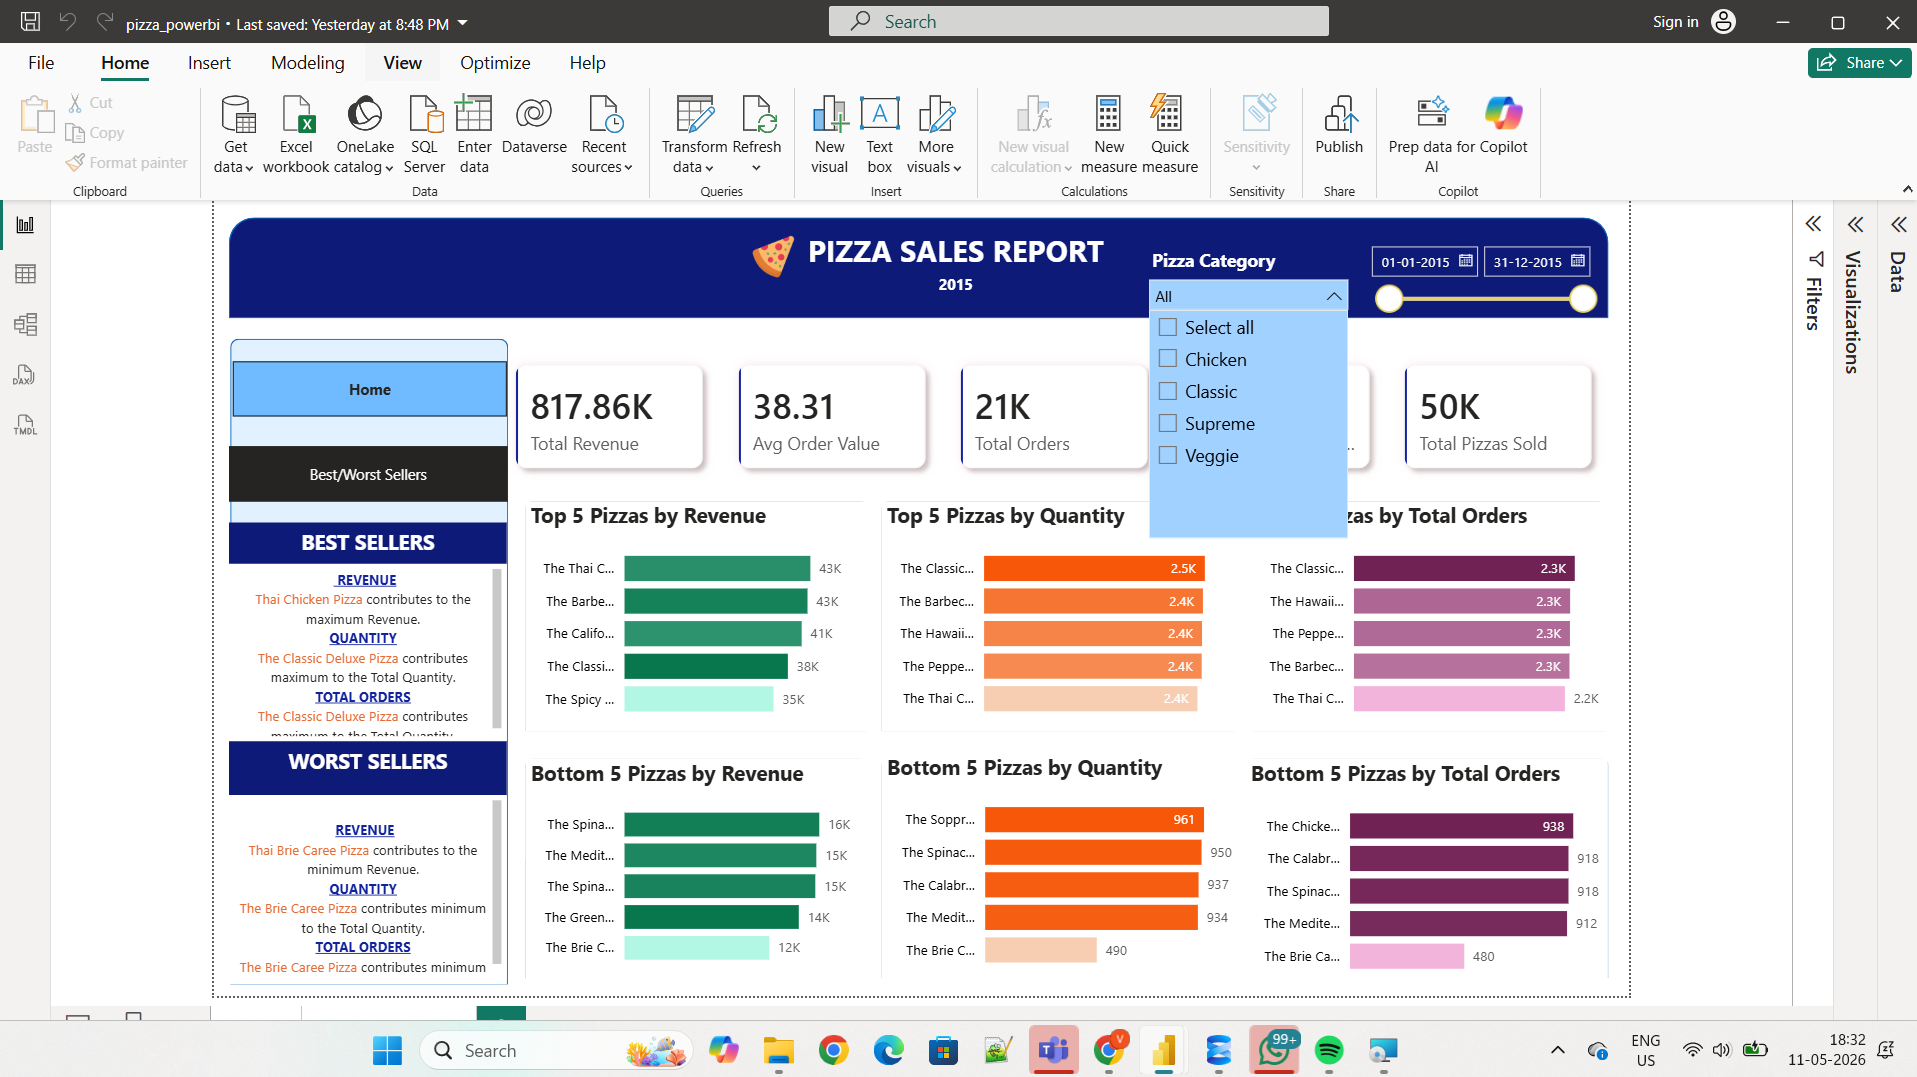

This screenshot's page, from the dashboard's own definition file:
{"tool":"powerbi","page":{"name":"Best/Worst Sellers","canvas":[1280,720],"ordinal":1},"visuals":[{"type":"cardVisual","fields":{"Data":["pizza_sales.Total Revenue","pizza_sales.Avg Order Value","pizza_sales.Total Orders","pizza_sales.Average Pizzas Per Order","pizza_sales.Total Pizzas Sold"]},"box":[244.6,119.6,1035.6,152.2],"z":0},{"type":"shape","box":[13.6,16.3,1247.7,91.1],"z":1000},{"type":"textbox","box":[418.6,23.1,505.6,47.6],"z":2000},{"type":"image","box":[470.3,31.3,70.7,39.4],"z":3000},{"type":"textbox","box":[557.2,62.5,227,38.1],"z":4000},{"type":"shape","box":[282,272,310,208],"z":5000},{"type":"shape","box":[604,272,320,208],"z":6000},{"type":"shape","box":[281.3,505.6,309.9,198.4],"z":7000},{"type":"shape","box":[603.4,505.6,320.7,198.4],"z":8000},{"type":"shape","box":[933.7,505.6,327.5,198.4],"z":9000},{"type":"shape","box":[14.3,125.7,251.4,584.3],"z":10000},{"type":"textbox","box":[13.8,291.2,251.2,37.5],"z":11000},{"type":"textbox","box":[13.8,328.8,251.2,161.2],"z":12000},{"type":"textbox","box":[13.8,490,251.2,48.8],"z":13000},{"type":"textbox","box":[13.8,538.8,251.2,171.2],"z":14000},{"type":"slicer","fields":{"Values":["pizza_sales.pizza_category"]},"box":[835,38.3,200,106.7],"z":15000},{"type":"slicer","fields":{"Values":["pizza_sales.order_date"]},"box":[1035,31.7,225,106.7],"z":16000},{"type":"shape","box":[938,272,320,208],"z":17000},{"type":"barChart","title":"Top 5 Pizzas by Revenue","fields":{"Category":["pizza_sales.pizza_name"],"Y":["pizza_sales.Total Revenue"]},"box":[282,272,310,208],"z":18000},{"type":"barChart","title":"Bottom 5 Pizzas by Revenue","fields":{"Category":["pizza_sales.pizza_name"],"Y":["pizza_sales.Total Revenue"]},"box":[281.1,505.6,310,198.9],"z":19000},{"type":"barChart","title":"Top 5 Pizzas by Quantity","fields":{"Category":["pizza_sales.pizza_name"],"Y":["pizza_sales.Total Pizzas Sold"]},"box":[603.3,272.2,321.1,207.8],"z":20000},{"type":"barChart","title":"Bottom 5 Pizzas by Quantity","fields":{"Category":["pizza_sales.pizza_name"],"Y":["pizza_sales.Total Pizzas Sold"]},"box":[603.3,500,322.2,207.8],"z":21000},{"type":"barChart","title":"Top 5 Pizzas by Total Orders","fields":{"Category":["pizza_sales.pizza_name"],"Y":["pizza_sales.Total Orders"]},"box":[937.8,272.2,323.3,207.8],"z":22000},{"type":"barChart","title":"Bottom 5 Pizzas by Total Orders","fields":{"Category":["pizza_sales.pizza_name"],"Y":["pizza_sales.Total Orders"]},"box":[933.3,505.6,327.8,207.8],"z":22001},{"type":"pageNavigator","box":[13.3,222.2,252.2,50],"z":22002},{"type":"pageNavigator","box":[16.7,145.6,248.9,50],"z":22003}]}

Visuals, with their boxes on the page's 1280x720 design canvas (x1, y1, x2, y2). These are canvas units, not pixel positions in the 1917x1077 screenshot, which may show the page scaled, cropped or inside an application window:
cardVisual - pizza_sales.Total Revenue x pizza_sales.Avg Order Value: [x1=245, y1=120, x2=1280, y2=272]
shape: [x1=14, y1=16, x2=1261, y2=107]
textbox: [x1=419, y1=23, x2=924, y2=71]
image: [x1=470, y1=31, x2=541, y2=71]
textbox: [x1=557, y1=62, x2=784, y2=101]
shape: [x1=282, y1=272, x2=592, y2=480]
shape: [x1=604, y1=272, x2=924, y2=480]
shape: [x1=281, y1=506, x2=591, y2=704]
shape: [x1=603, y1=506, x2=924, y2=704]
shape: [x1=934, y1=506, x2=1261, y2=704]
shape: [x1=14, y1=126, x2=266, y2=710]
textbox: [x1=14, y1=291, x2=265, y2=329]
textbox: [x1=14, y1=329, x2=265, y2=490]
textbox: [x1=14, y1=490, x2=265, y2=539]
textbox: [x1=14, y1=539, x2=265, y2=710]
slicer - pizza_sales.pizza_category: [x1=835, y1=38, x2=1035, y2=145]
slicer - pizza_sales.order_date: [x1=1035, y1=32, x2=1260, y2=138]
shape: [x1=938, y1=272, x2=1258, y2=480]
"Top 5 Pizzas by Revenue" barChart: [x1=282, y1=272, x2=592, y2=480]
"Bottom 5 Pizzas by Revenue" barChart: [x1=281, y1=506, x2=591, y2=704]
"Top 5 Pizzas by Quantity" barChart: [x1=603, y1=272, x2=924, y2=480]
"Bottom 5 Pizzas by Quantity" barChart: [x1=603, y1=500, x2=926, y2=708]
"Top 5 Pizzas by Total Orders" barChart: [x1=938, y1=272, x2=1261, y2=480]
"Bottom 5 Pizzas by Total Orders" barChart: [x1=933, y1=506, x2=1261, y2=713]
pageNavigator: [x1=13, y1=222, x2=266, y2=272]
pageNavigator: [x1=17, y1=146, x2=266, y2=196]
